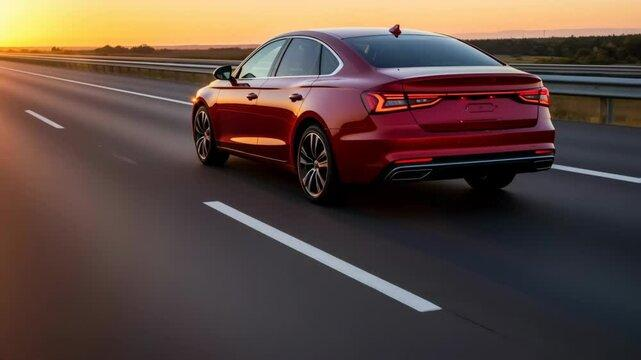Sedan: (170, 13, 570, 220)
